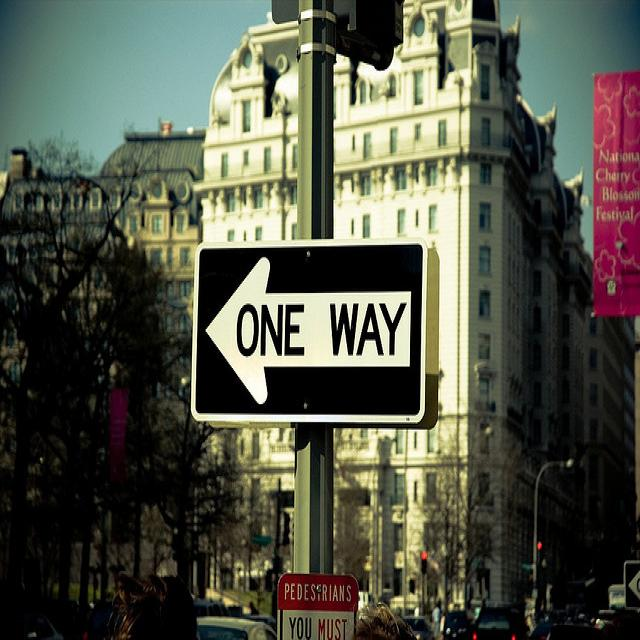Vehicle: (470, 597, 526, 640), (197, 615, 277, 640), (603, 609, 640, 640), (442, 610, 474, 640)
